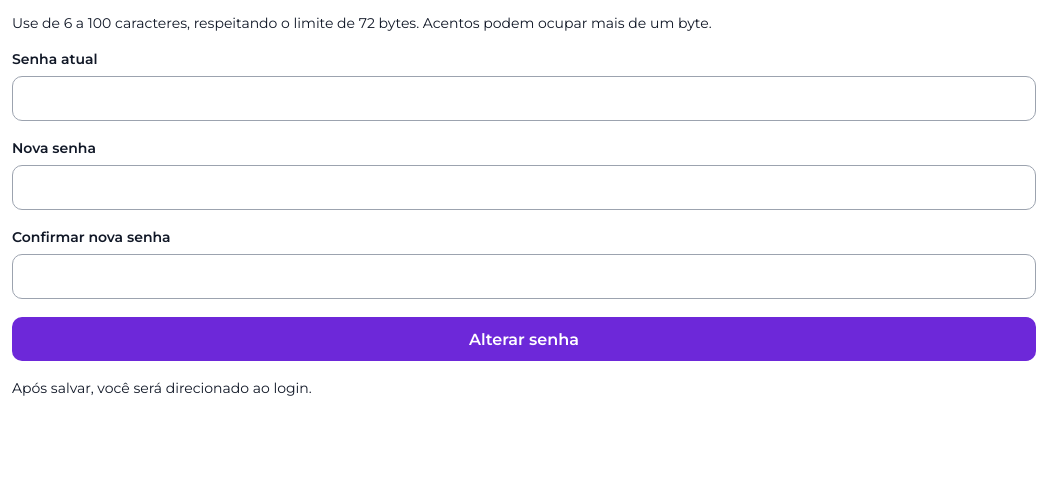
password flows › does not echo network exceptions
The width and height of the screenshot is (1048, 478).
Type "OldSecret123" into the password field labelled "Senha atual" at (524, 99), box [12,76,1036,121]
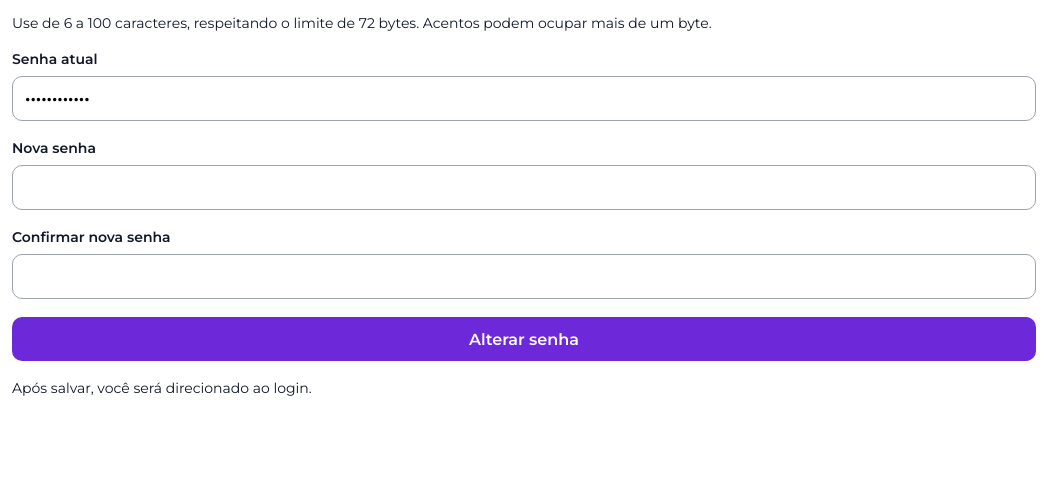
Type "NewSecret456" into the password field labelled "Nova senha" at (524, 188), box [12,165,1036,210]
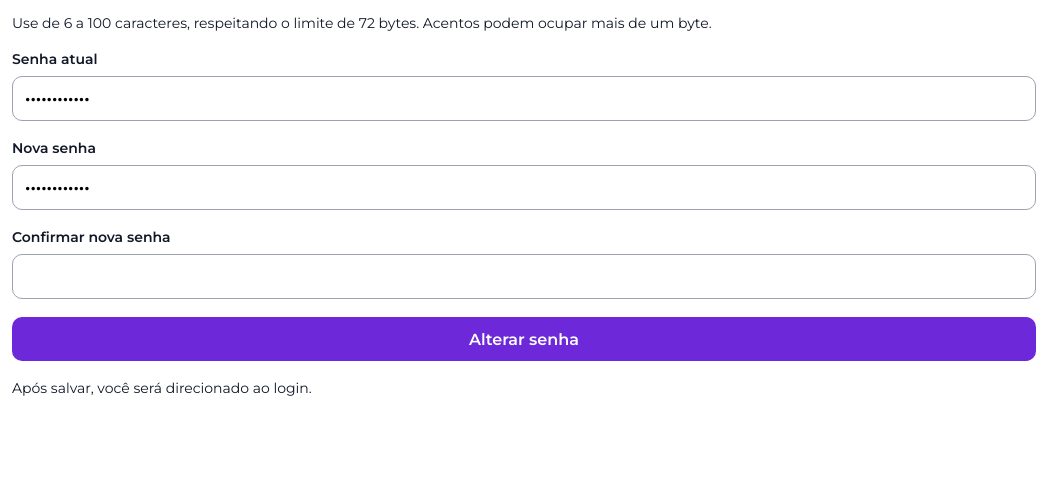
Type "NewSecret456" into the password field labelled "Confirmar nova senha" at (524, 277), box [12,254,1036,299]
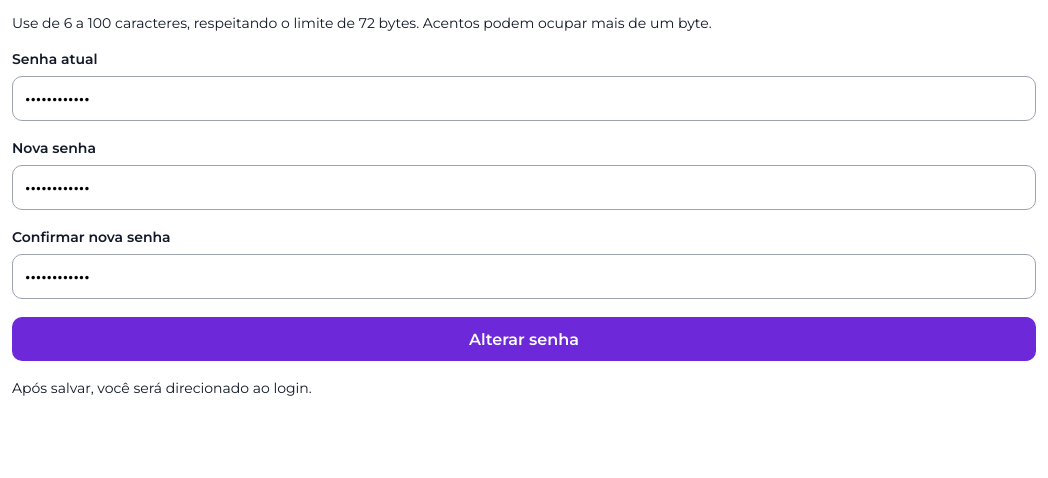
Submit the form
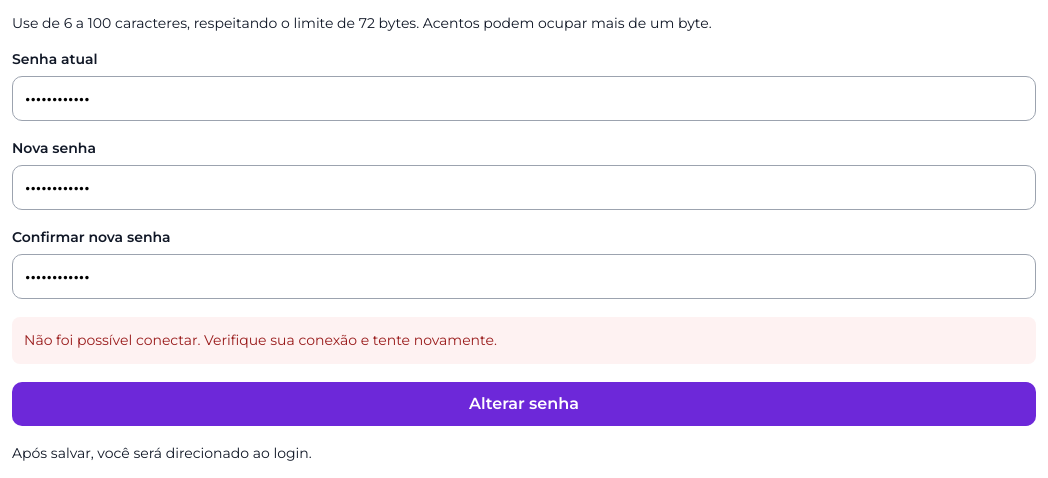
Check: the message does not show "SENSITIVE-SECRET", box [12,317,1036,364]
Check: the message shows "Verifique sua conexão", box [24,331,497,349]
